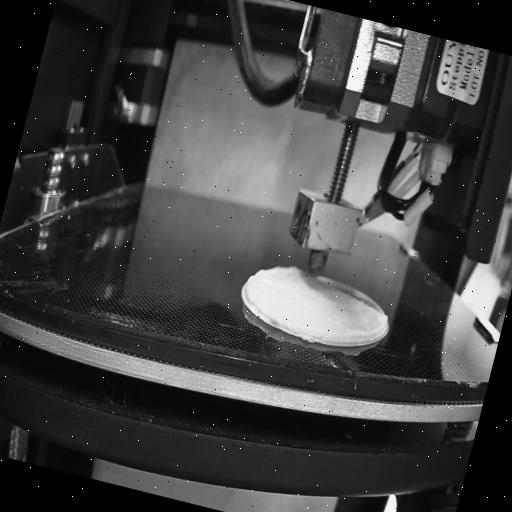over_extrusion: (239, 252, 303, 312), (346, 308, 392, 346)
